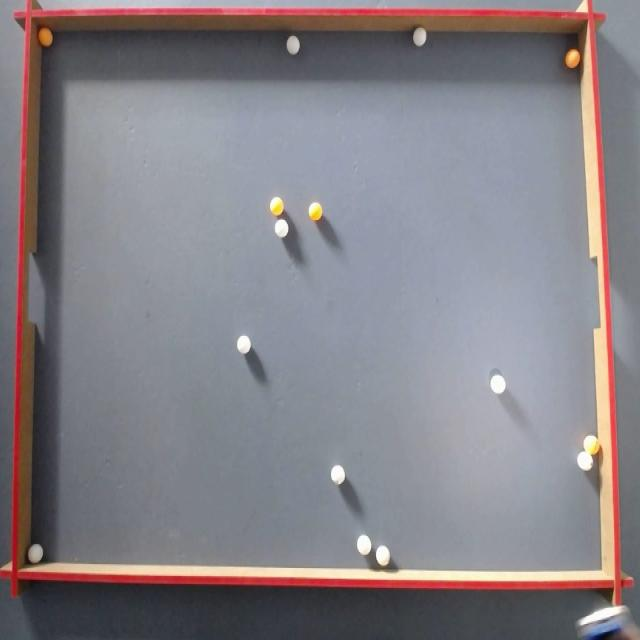orange_ball: (38, 26, 53, 46), (584, 435, 599, 455), (565, 49, 580, 68), (309, 202, 322, 220), (270, 197, 283, 215)
white_ball: (28, 543, 44, 564), (490, 374, 506, 394), (577, 452, 593, 471), (357, 535, 371, 555), (376, 546, 390, 566), (237, 335, 251, 354), (286, 36, 300, 54), (274, 220, 288, 238), (413, 27, 426, 46), (331, 465, 344, 484)
